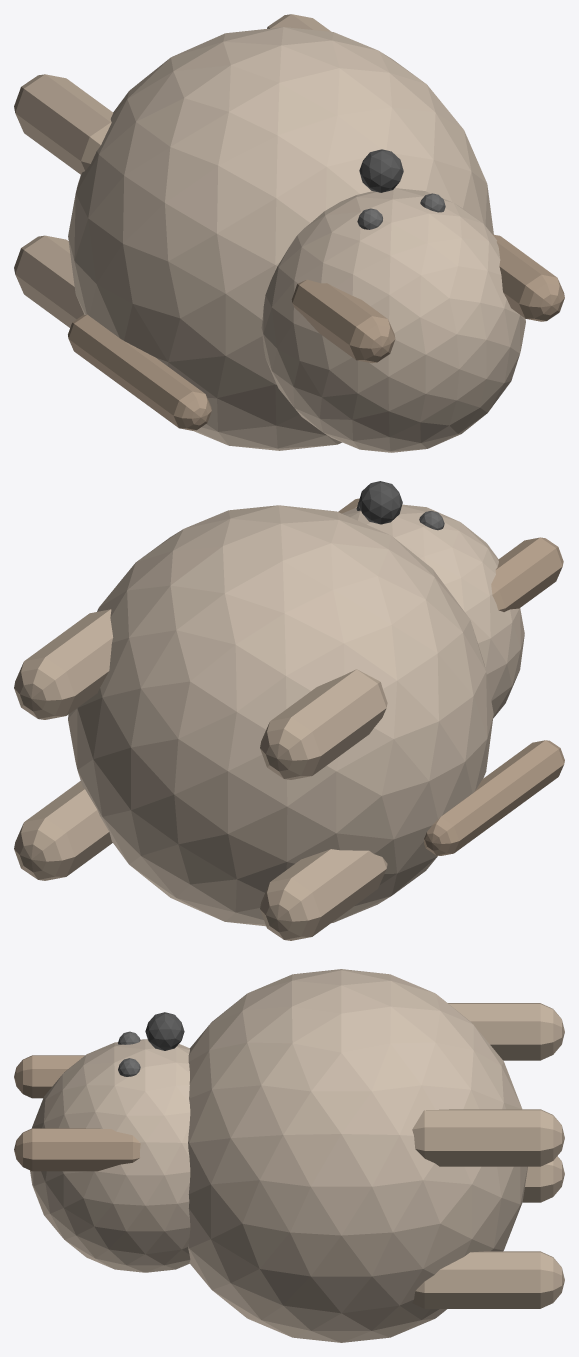
The model's file is dog.glb.
The picture shows the model from 3 angles, top to bottom: view 1: azimuth 30°, elevation 25°; view 2: azimuth 150°, elevation 25°; view 3: azimuth 270°, elevation 25°; orthographic projection. The views are drawn at different scales.
Visible parts, largest first — view 1: world; view 2: world; view 3: world.
Part boxes in pixels (left/top/right/bottom): world: left=14, top=14, right=564, bottom=452; world: left=14, top=481, right=564, bottom=940; world: left=14, top=969, right=564, bottom=1342.
Bounding box in the file's own units: 0.791 × 0.768 × 1.12.
